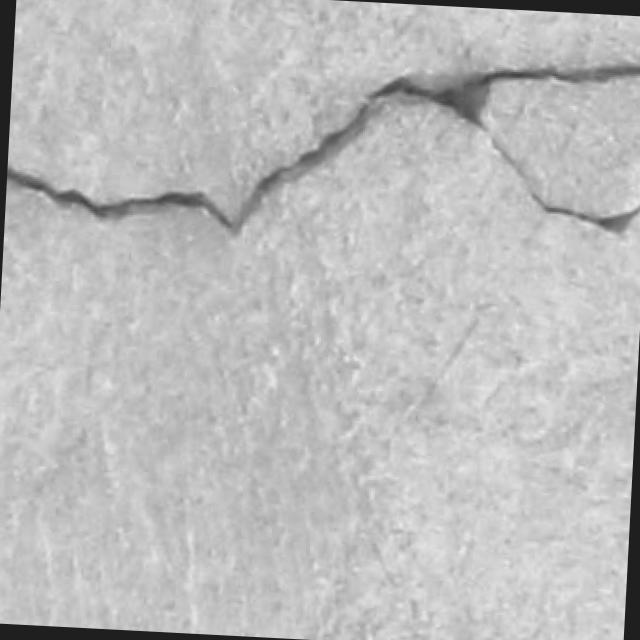crack: (7, 64, 639, 233)
